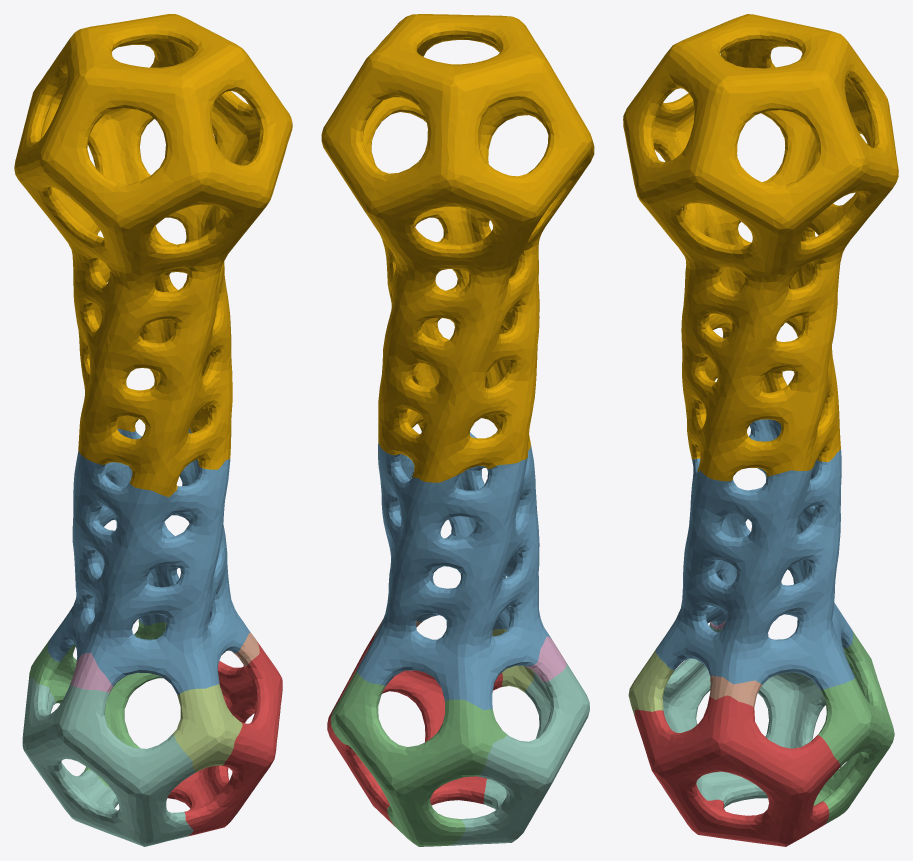
The model's file is fractured_37_8pcs.glb.
3 views of the same model, side by side, from view 1: azimuth 30°, elevation 25°; view 2: azimuth 150°, elevation 25°; view 3: azimuth 270°, elevation 25° (orthographic).
Visible parts, largest first — view 1: piece_0.obj, piece_2.obj, piece_4.obj, piece_1.obj, piece_5.obj, piece_3.obj, piece_6.obj; view 2: piece_0.obj, piece_2.obj, piece_3.obj, piece_4.obj, piece_1.obj, piece_6.obj, piece_5.obj; view 3: piece_0.obj, piece_2.obj, piece_1.obj, piece_4.obj, piece_3.obj, piece_5.obj, piece_7.obj.
Part boxes in pixels (x1,y1,x2,y2): piece_0.obj: [14, 14, 292, 497]; piece_2.obj: [47, 428, 250, 695]; piece_4.obj: [22, 677, 195, 846]; piece_1.obj: [167, 642, 282, 836]; piece_5.obj: [171, 684, 242, 772]; piece_3.obj: [28, 619, 166, 787]; piece_6.obj: [70, 652, 113, 692]; piece_0.obj: [321, 14, 594, 482]; piece_2.obj: [357, 431, 551, 710]; piece_3.obj: [331, 670, 506, 846]; piece_4.obj: [452, 662, 589, 845]; piece_1.obj: [327, 631, 502, 826]; piece_6.obj: [525, 636, 566, 681]; piece_5.obj: [492, 629, 534, 692]; piece_0.obj: [623, 14, 898, 481]; piece_2.obj: [655, 419, 854, 690]; piece_1.obj: [634, 695, 840, 846]; piece_4.obj: [663, 623, 825, 808]; piece_3.obj: [813, 631, 894, 824]; piece_5.obj: [628, 649, 673, 715]; piece_7.obj: [709, 675, 762, 707].
Size of the model in its own units: 0.3256 by 1 by 0.3253.
